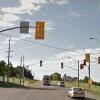Traffic light: (56, 58, 66, 71)
